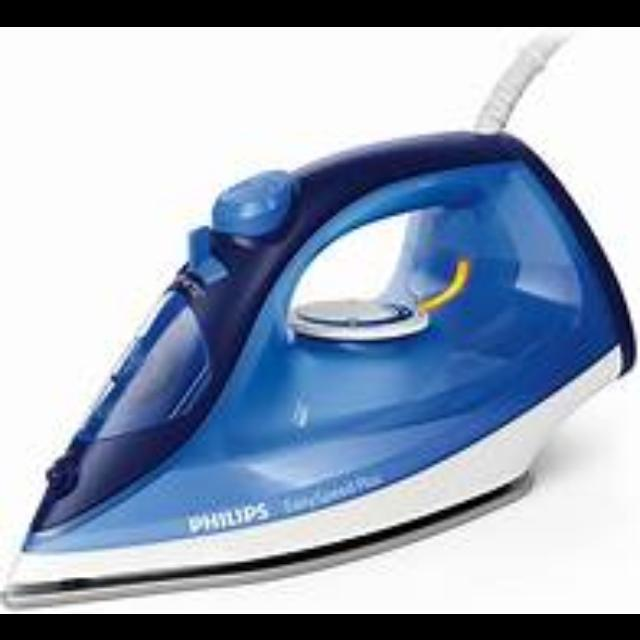Clothes-Iron: (0, 129, 640, 605)
